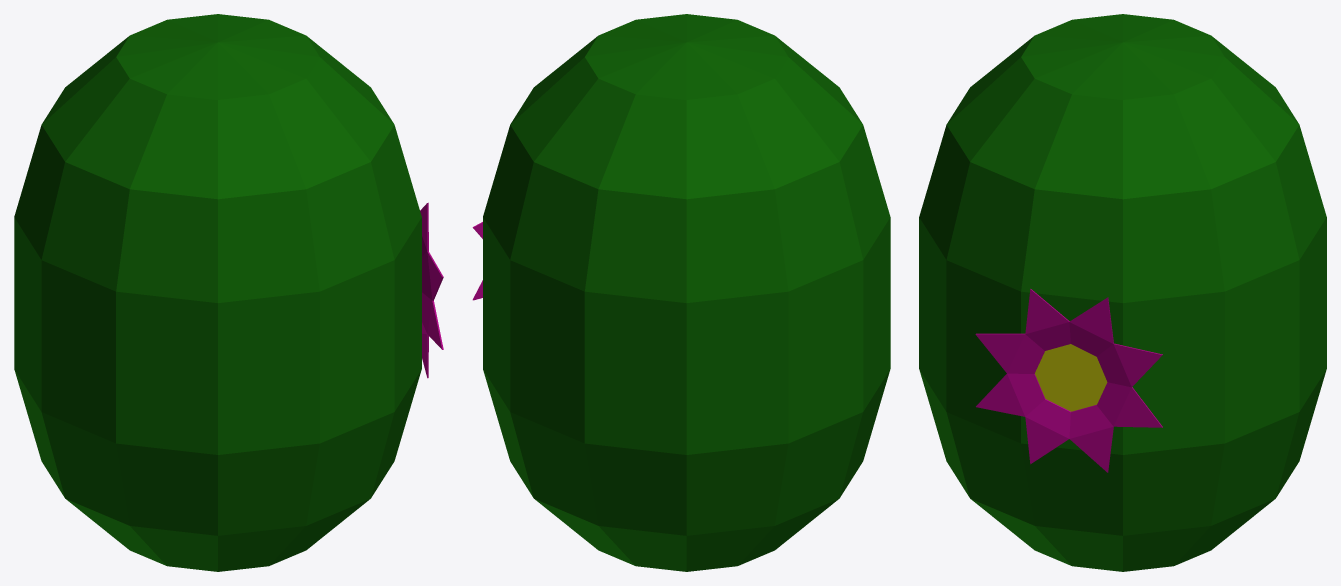
Rendered from cactus klein.fbx.
3 views of the same model, side by side, from view 1: azimuth 30°, elevation 25°; view 2: azimuth 150°, elevation 25°; view 3: azimuth 270°, elevation 25° (orthographic).
Parts seen in each view (by area): view 1: cactus bloem.001; view 2: cactus bloem.001; view 3: cactus bloem.001.
Boxes of the visible parts, x1=… form: cactus bloem.001: x1=14, y1=14, x2=443, y2=571; cactus bloem.001: x1=472, y1=14, x2=890, y2=571; cactus bloem.001: x1=919, y1=14, x2=1326, y2=571.
Size of the model in its own units: 0.4114 by 0.5155 by 0.3915.
